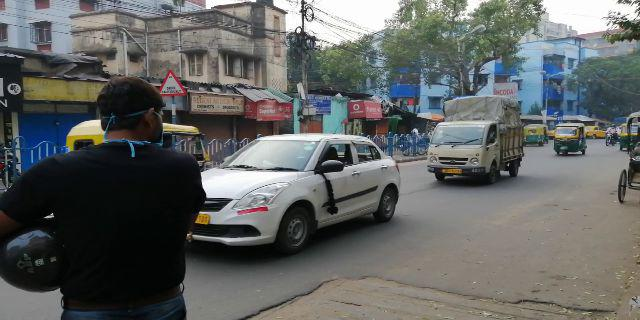Autorickshaw: (557, 126, 590, 158)
Car: (185, 128, 401, 249)
Minitruck: (427, 108, 528, 183)
